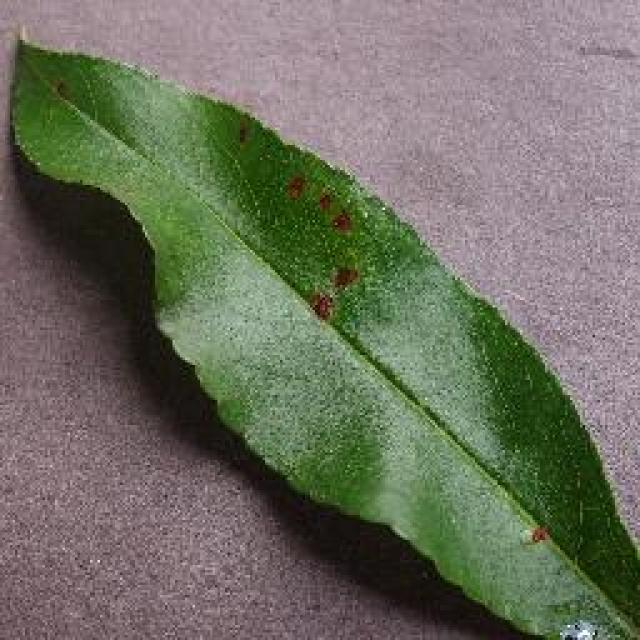Peach_Bacterial_Spot: (268, 95, 460, 402)
